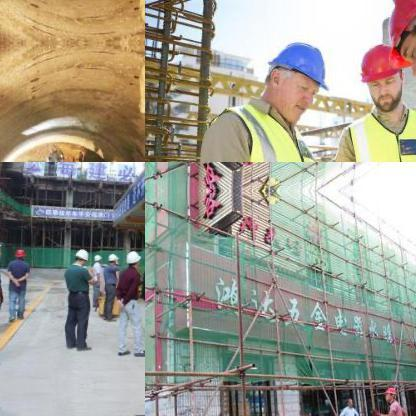Helmet: (257, 31, 331, 118), (354, 36, 414, 110), (390, 4, 415, 81), (123, 249, 141, 270), (71, 245, 87, 267), (380, 384, 398, 402), (12, 244, 26, 260), (106, 251, 120, 267), (92, 251, 102, 263)
